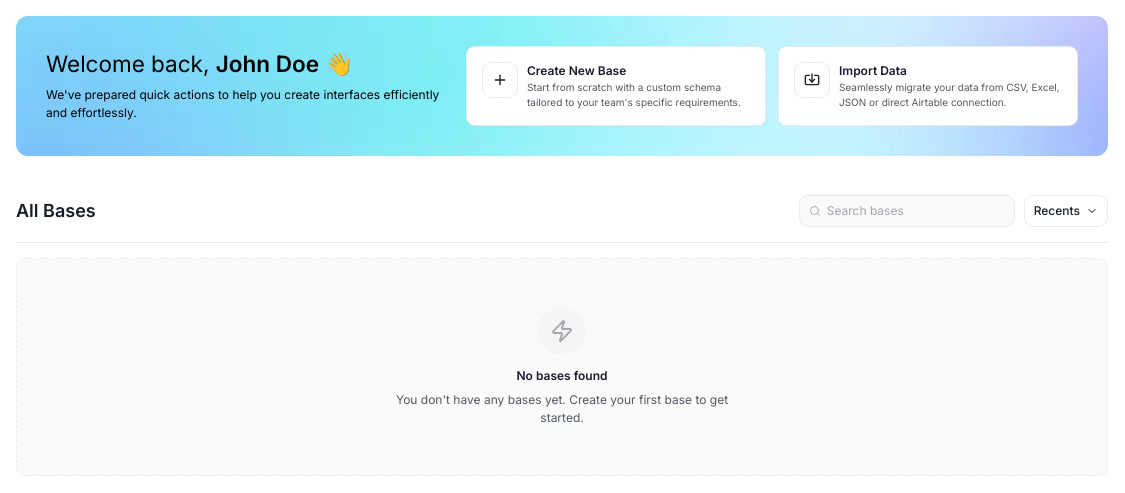
Test: HomePage › Sorting › should open sort dropdown when sort button is clicked
Click the button "Recents" at (1066, 211), box [1024,195,1108,227]
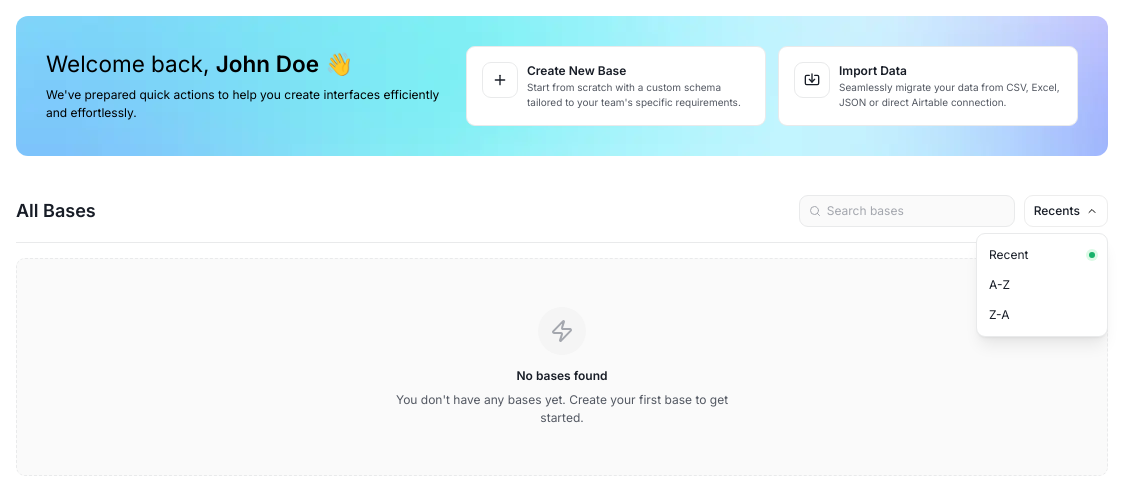
Now the text "A-Z" is shown, box [989,276,1010,294]
Now the text "Z-A" is shown, box [989,306,1010,324]
